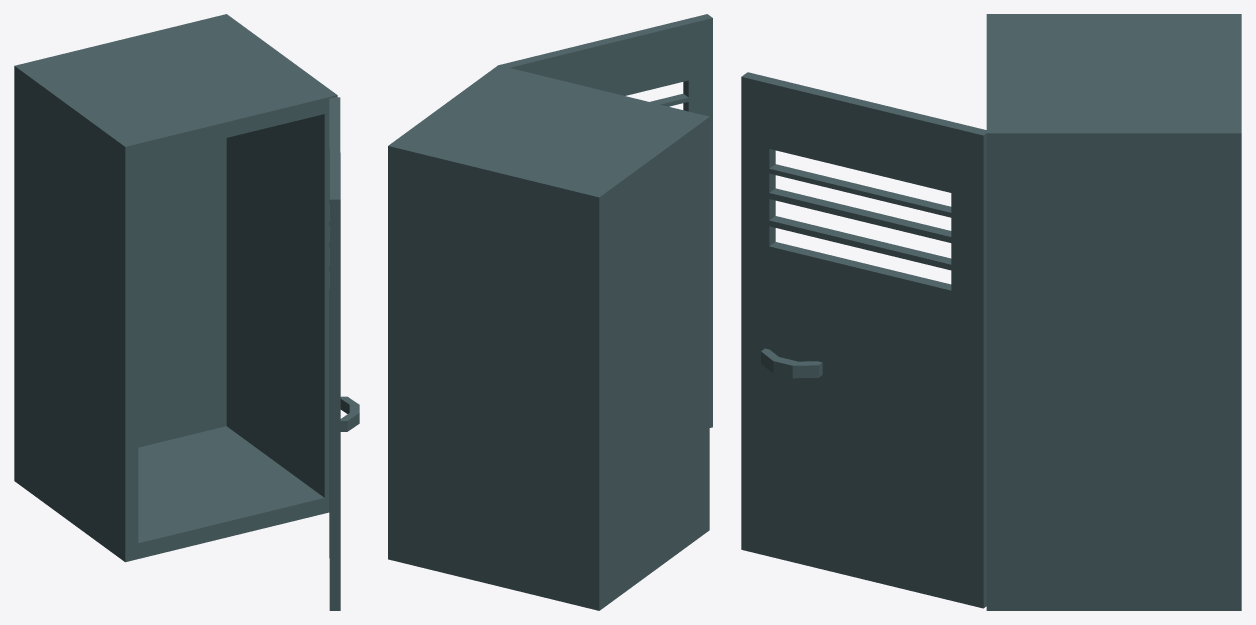
Rendered from locker_opened.fbx.
3 views of the same model, side by side, from view 1: azimuth 30°, elevation 25°; view 2: azimuth 150°, elevation 25°; view 3: azimuth 270°, elevation 25° (orthographic). The views are drawn at different scales.
Visible parts, largest first — view 1: Cube.049; view 2: Cube.049; view 3: Cube.049.
Part boxes in pixels (left/top/right/bottom): Cube.049: left=14, top=14, right=359, bottom=610; Cube.049: left=388, top=14, right=712, bottom=610; Cube.049: left=741, top=14, right=1241, bottom=610.
Size of the model in its own units: 127 by 236 by 224.
